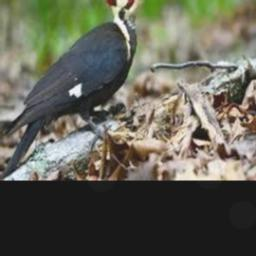Woodpecker: (0, 0, 165, 180)
